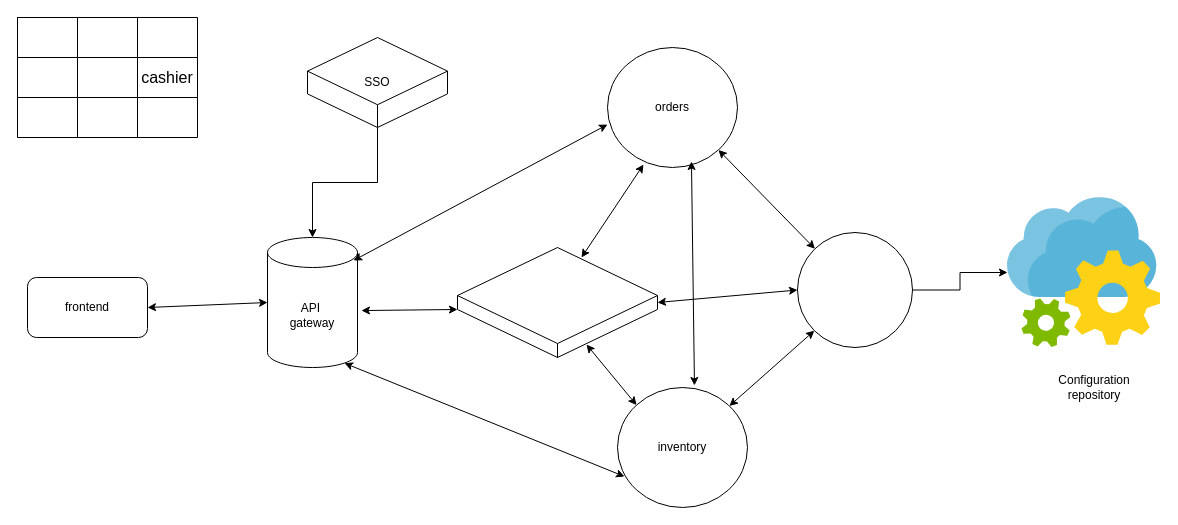
The diagram is 1178 pixels wide and 525 high, and some of its shapes have lost their labels. Here are the shapes that lost their labels. From the top down, the centre of each, then its label:
point 557,302: Eureka service registry
point 854,290: Configuration server
